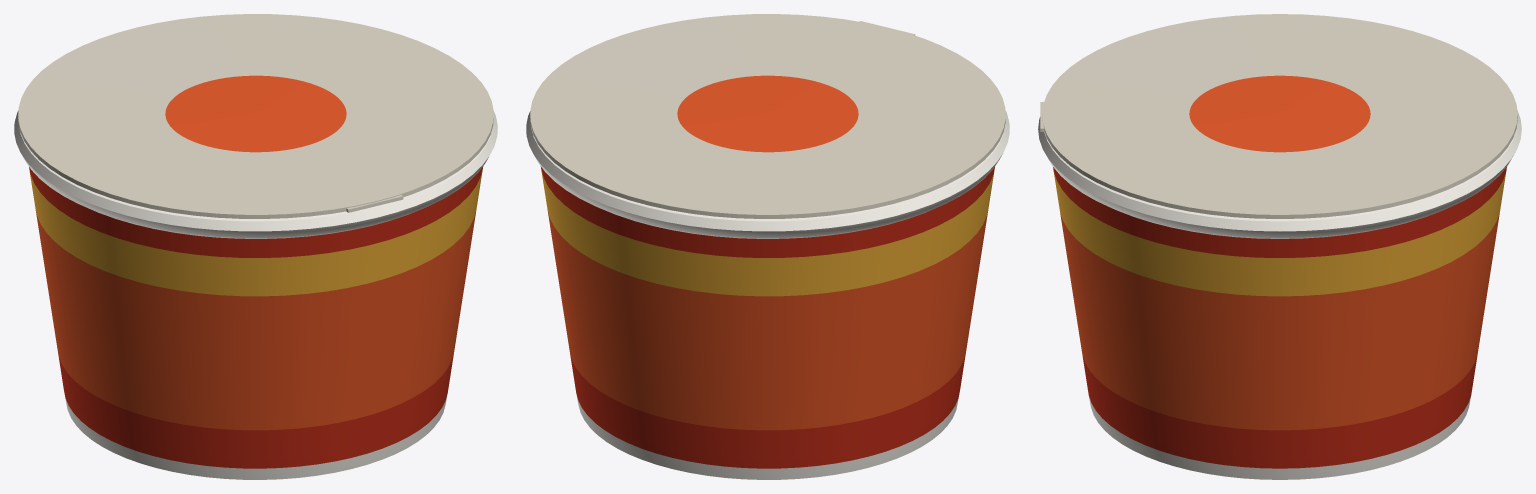
File: item-yukgaejang-cup.glb
The picture shows the model from 3 angles, left to right: view 1: azimuth 30°, elevation 25°; view 2: azimuth 150°, elevation 25°; view 3: azimuth 270°, elevation 25°; orthographic projection.
Parts seen in each view (by area): view 1: item-yukgaejang-cup; view 2: item-yukgaejang-cup; view 3: item-yukgaejang-cup.
Boxes of the visible parts, left/top/right/bottom form: item-yukgaejang-cup: left=14, top=14, right=497, bottom=479; item-yukgaejang-cup: left=526, top=14, right=1009, bottom=479; item-yukgaejang-cup: left=1038, top=14, right=1521, bottom=479.
Size of the model in its own units: 0.107 by 0.0698 by 0.107.
